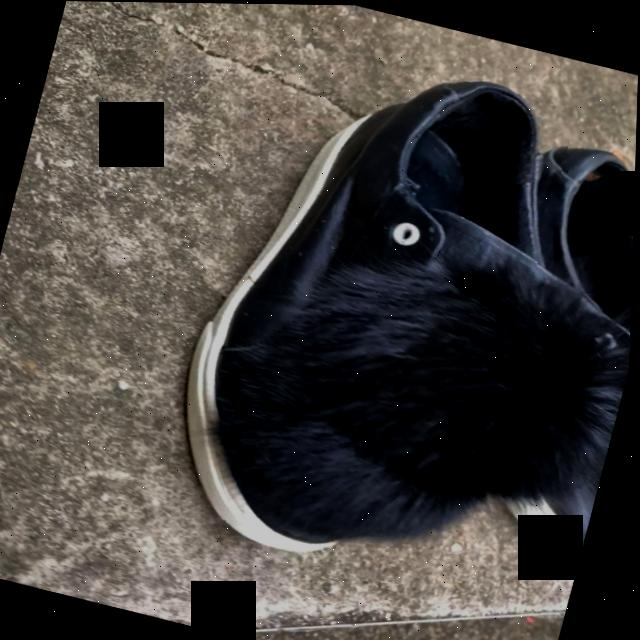shoe: (189, 81, 549, 554)
